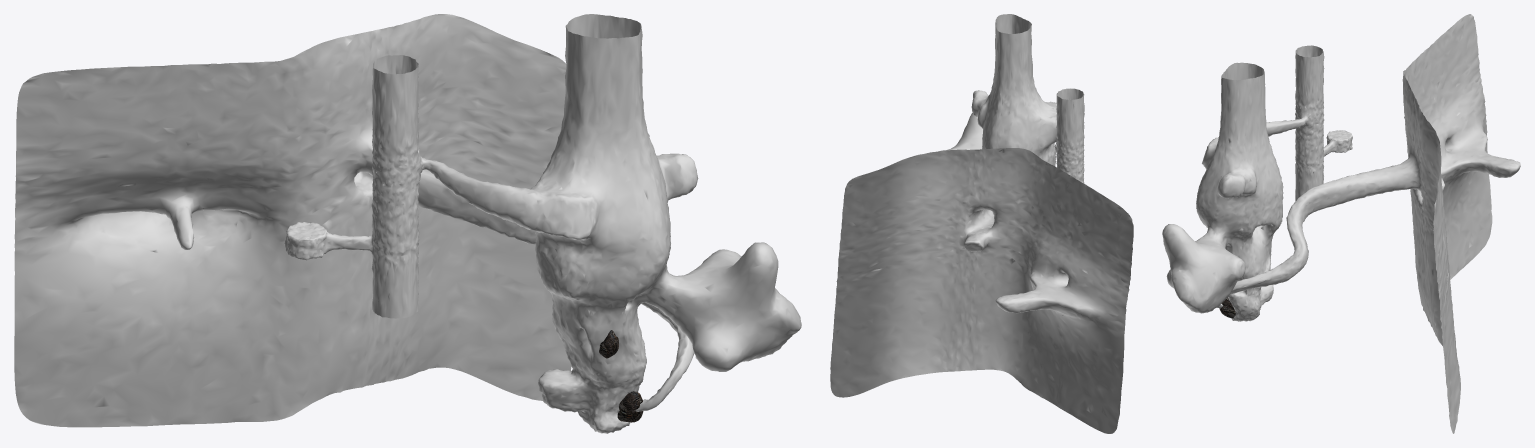
File: CaveTest_11_26 2.fbx
3 views of the same model, side by side, from view 1: azimuth 30°, elevation 25°; view 2: azimuth 150°, elevation 25°; view 3: azimuth 270°, elevation 25° (orthographic). The views are drawn at different scales.
Visible parts, largest first — view 1: CaveBase; view 2: CaveBase; view 3: CaveBase.
Part boxes in pixels (left/top/right/bottom): CaveBase: left=14, top=14, right=801, bottom=433; CaveBase: left=830, top=14, right=1133, bottom=433; CaveBase: left=1162, top=14, right=1520, bottom=433.
Bounding box in the file's own units: 62064 × 57774 × 57644.
